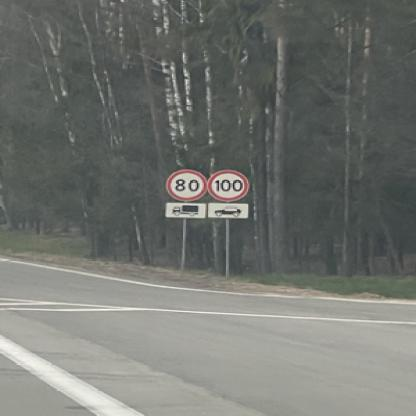speedlimit: (164, 168, 205, 198), (206, 168, 245, 199)
